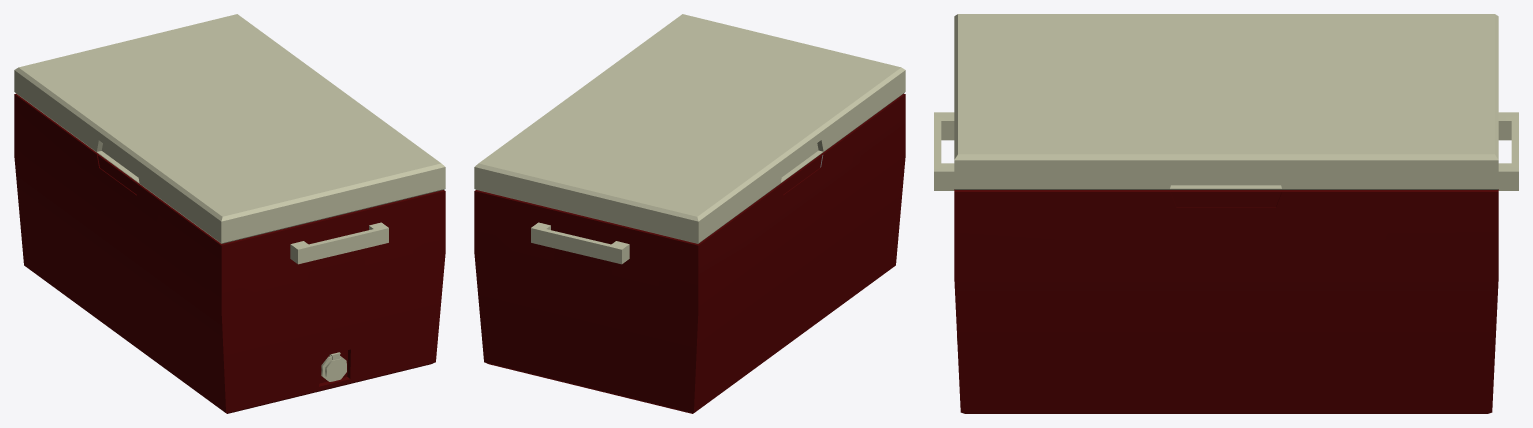
The model's file is Cooler.FBX.
3 views of the same model, side by side, from view 1: azimuth 30°, elevation 25°; view 2: azimuth 150°, elevation 25°; view 3: azimuth 270°, elevation 25° (orthographic). The views are drawn at different scales.
Visible parts, largest first — view 1: Cooler001; view 2: Cooler001; view 3: Cooler001.
Part boxes in pixels (x1,y1,x2,y2): Cooler001: (14,14,445,413); Cooler001: (474,14,905,413); Cooler001: (934,14,1518,413).
Size of the model in its own units: 10.6 by 9.08 by 18.2.
